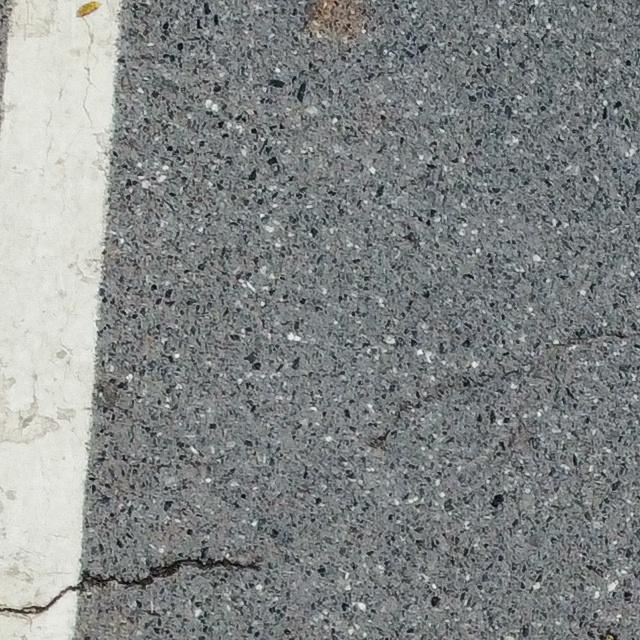TransverseCrack: (1, 554, 261, 620)
